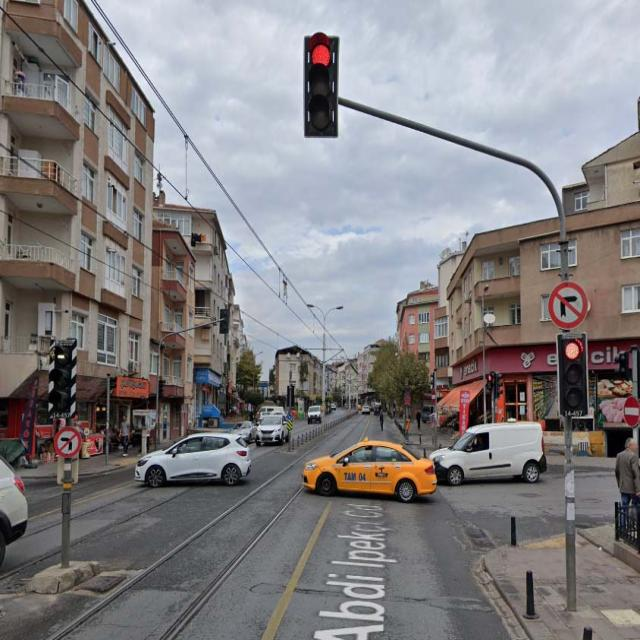kirmizi: (302, 35, 338, 138), (559, 334, 588, 417)
sagadonulmez: (549, 282, 588, 328)
soladonulmez: (54, 426, 82, 458)
